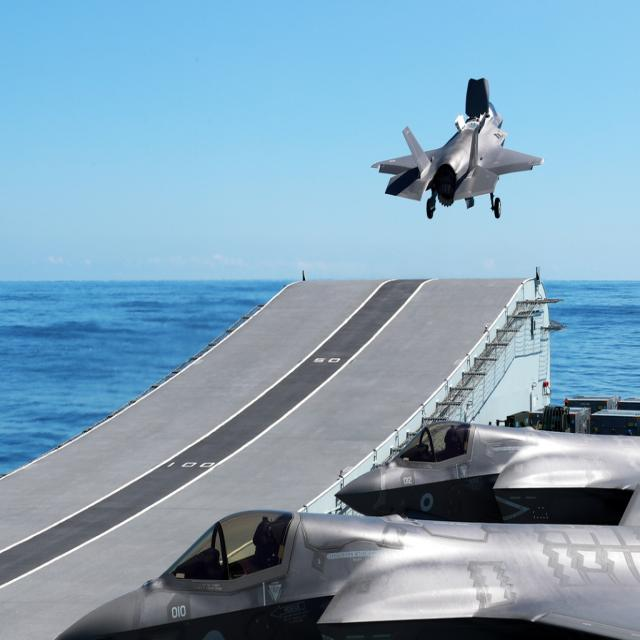MIL_Plane: (54, 482, 640, 640), (334, 420, 640, 525), (368, 78, 544, 220)
